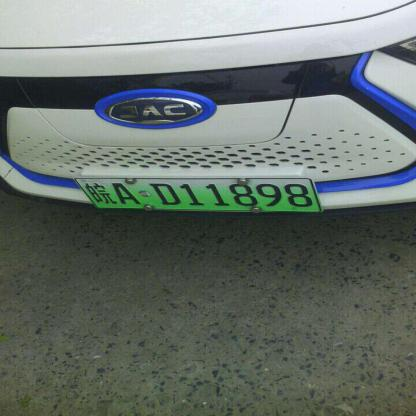lp: (75, 176, 321, 212)
